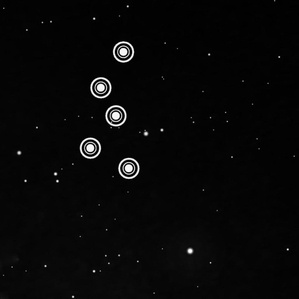cassiopeia: (66, 31, 151, 191)
